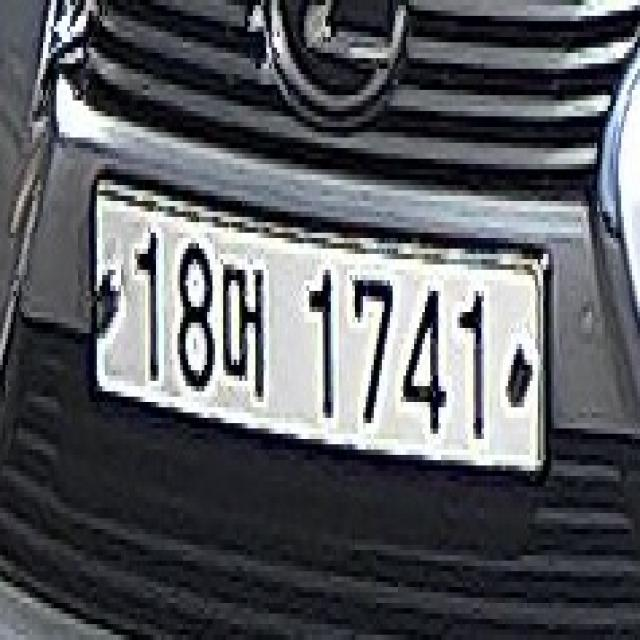1: (304, 259, 344, 439), (126, 217, 164, 397), (455, 285, 492, 455)
4: (398, 275, 452, 450)
7: (350, 259, 395, 444)
8: (169, 233, 218, 407)
license_plate: (86, 164, 557, 502)
meo: (220, 248, 269, 412)
